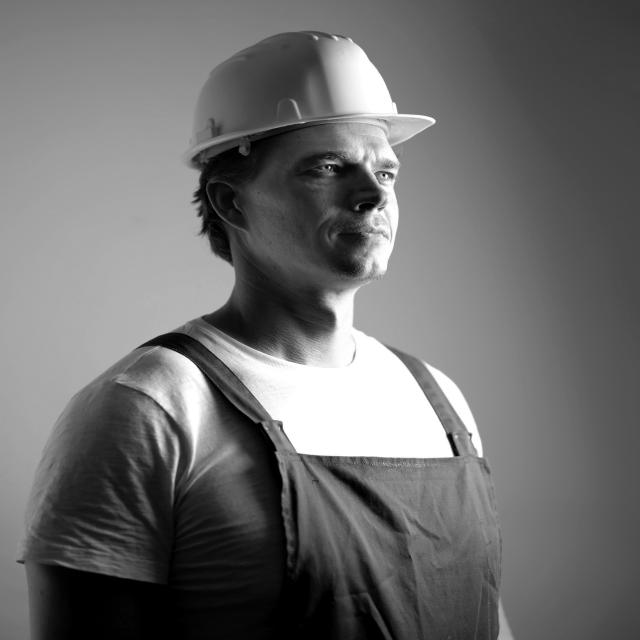No-Vest: (38, 323, 508, 639)
